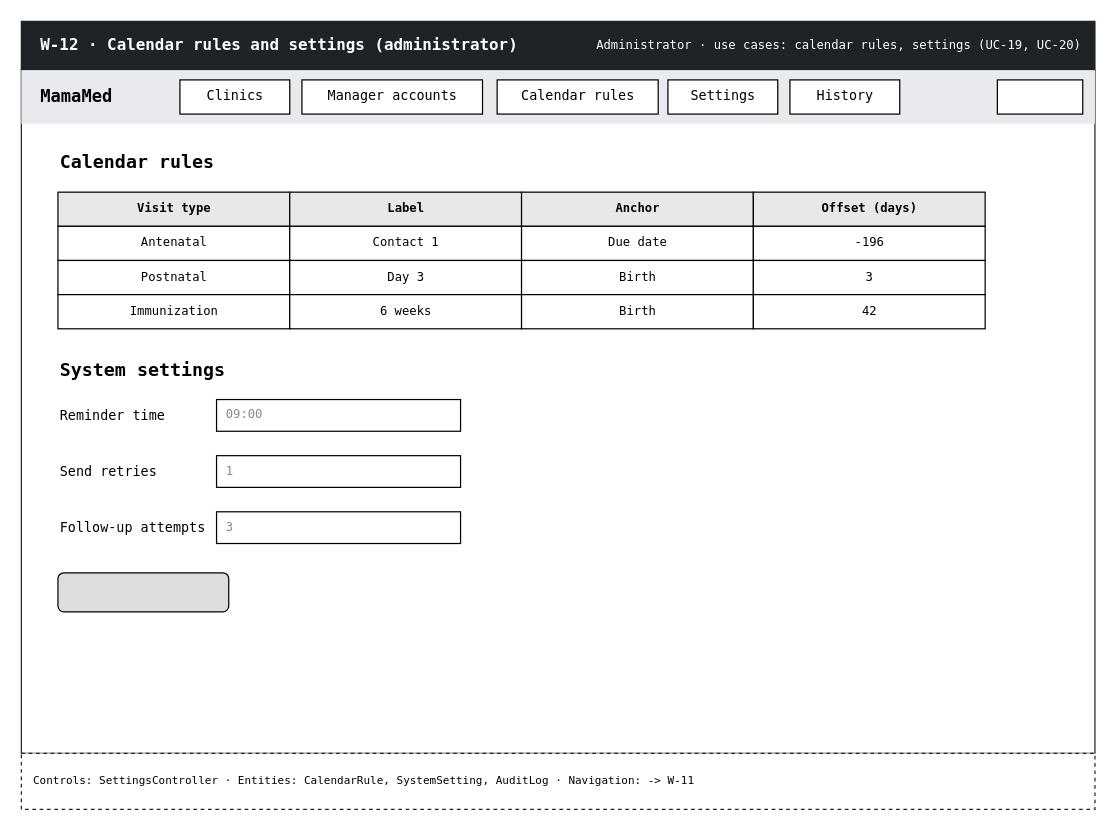
The diagram is 1116 pixels wide and 831 high, and some of its shapes have lost their labels. The centre of each missing label's shape, as x and y in pixels:
"Logout" belongs at point 1039,96.
"Save" belongs at point 143,592.
